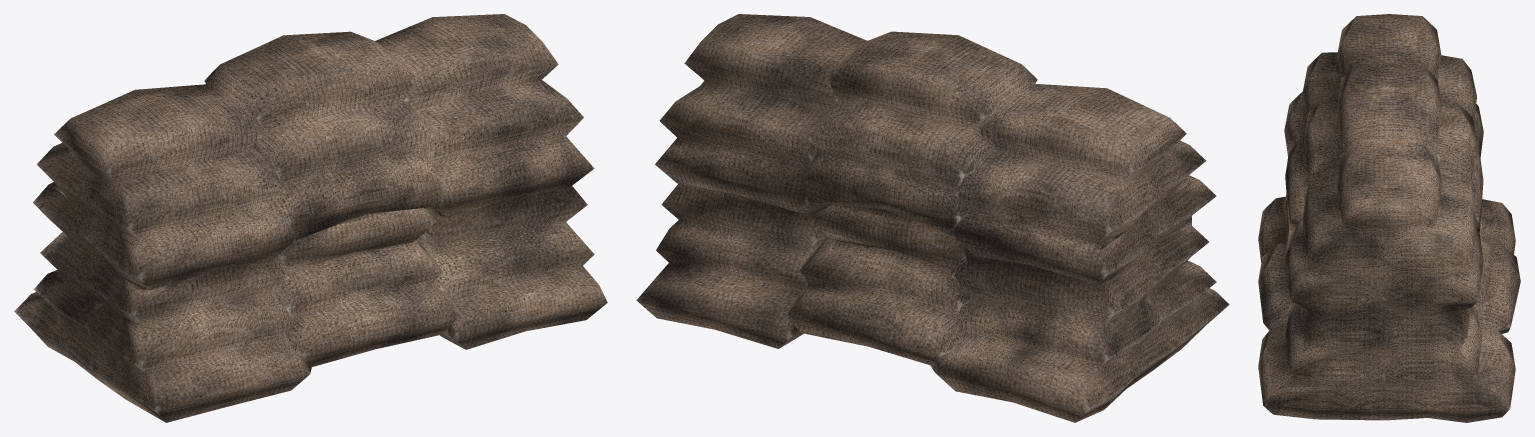
The model's file is trinchera.fbx.
3 renders of one model, left to right at view 1: azimuth 30°, elevation 25°; view 2: azimuth 150°, elevation 25°; view 3: azimuth 270°, elevation 25°, orthographic. The views are drawn at different scales.
Visible parts, largest first — view 1: trinchera; view 2: trinchera; view 3: trinchera.
Part boxes in pixels (x1,y1,x2,y2): trinchera: (14, 14, 607, 422); trinchera: (636, 14, 1229, 422); trinchera: (1258, 14, 1520, 422).
Bounding box in the file's own units: 305 × 173 × 169.
